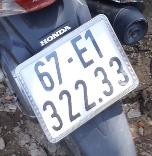1: (82, 27, 109, 63)
2: (53, 86, 84, 126), (69, 75, 100, 115)
3: (89, 63, 119, 100), (38, 97, 67, 135), (106, 51, 133, 90)
6: (31, 58, 58, 96)
7: (44, 49, 69, 87)
E: (68, 34, 97, 72)
